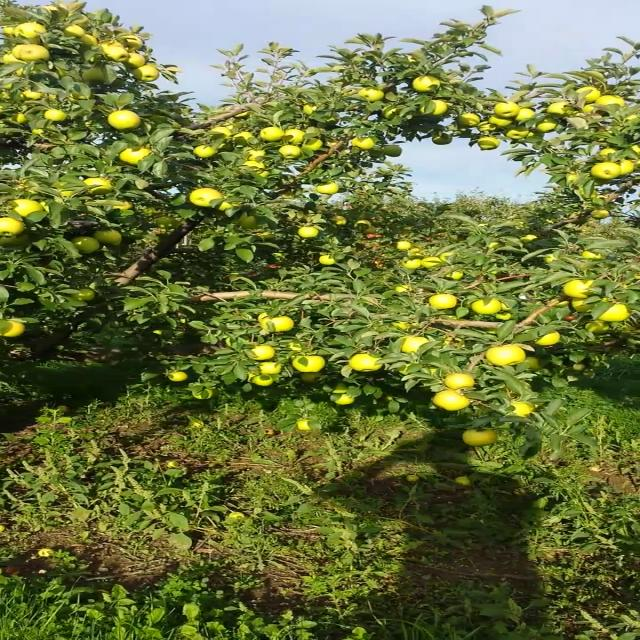apple: (561, 278, 604, 298), (486, 345, 526, 366), (430, 390, 470, 411), (5, 198, 43, 220), (461, 427, 499, 447), (594, 304, 636, 322), (108, 109, 142, 131), (347, 352, 383, 372), (187, 186, 222, 206), (570, 297, 608, 315), (117, 144, 151, 164), (500, 400, 537, 418), (99, 41, 129, 63), (258, 315, 292, 334), (113, 33, 145, 53), (128, 63, 160, 83), (440, 372, 475, 390), (290, 355, 324, 373), (588, 161, 620, 180), (20, 44, 50, 64), (81, 177, 115, 194), (15, 22, 47, 40), (244, 343, 276, 361), (428, 293, 458, 311), (531, 328, 560, 346), (416, 100, 448, 116), (412, 75, 442, 92), (532, 115, 562, 132), (398, 336, 428, 353), (80, 66, 108, 84), (492, 101, 520, 119), (71, 236, 99, 254), (471, 298, 500, 315), (0, 217, 24, 237), (92, 228, 122, 244), (545, 102, 576, 117), (212, 196, 241, 212), (0, 318, 23, 338), (571, 86, 601, 101), (357, 85, 385, 101), (594, 92, 626, 106), (502, 124, 529, 140), (348, 135, 375, 151), (277, 144, 303, 160), (237, 212, 260, 230), (474, 137, 502, 151), (429, 130, 455, 145), (298, 136, 322, 152), (487, 114, 514, 128), (0, 52, 26, 66), (281, 129, 307, 143), (191, 145, 217, 159), (242, 159, 268, 173), (14, 180, 40, 194), (315, 180, 341, 194), (0, 233, 28, 246), (260, 126, 284, 141), (121, 53, 146, 67), (457, 114, 482, 128), (615, 159, 635, 176), (72, 34, 100, 46), (378, 104, 402, 118), (514, 108, 538, 122), (260, 361, 284, 375), (67, 288, 94, 300), (583, 322, 610, 334), (190, 388, 217, 400), (18, 90, 44, 102), (154, 215, 180, 227), (476, 120, 498, 134), (559, 172, 581, 186), (61, 22, 82, 36), (420, 255, 441, 269), (44, 109, 68, 121), (596, 145, 620, 157), (294, 225, 318, 237), (66, 92, 87, 105), (8, 44, 25, 60), (379, 144, 401, 156), (252, 374, 274, 386), (332, 394, 354, 406), (329, 381, 349, 394), (109, 200, 132, 211), (245, 149, 266, 161), (524, 356, 542, 370), (590, 209, 612, 220), (7, 112, 27, 124), (210, 127, 234, 137), (231, 130, 255, 140), (514, 234, 538, 244), (548, 296, 568, 308), (166, 371, 187, 382), (38, 4, 57, 16), (402, 258, 421, 270), (391, 320, 410, 332), (300, 372, 324, 381), (294, 418, 312, 430), (302, 101, 316, 116), (492, 311, 513, 321), (578, 103, 598, 113), (443, 271, 463, 281), (580, 250, 604, 258), (254, 311, 270, 323), (525, 128, 543, 138), (255, 231, 275, 240), (318, 255, 336, 265), (393, 284, 411, 294), (2, 25, 17, 36), (622, 110, 638, 120), (58, 190, 74, 200), (354, 219, 370, 229), (396, 240, 412, 250), (544, 253, 560, 263), (325, 216, 346, 223), (628, 143, 638, 157), (360, 225, 374, 235), (10, 66, 23, 76), (30, 128, 44, 137), (487, 241, 502, 249), (224, 122, 236, 130), (500, 302, 512, 310)
